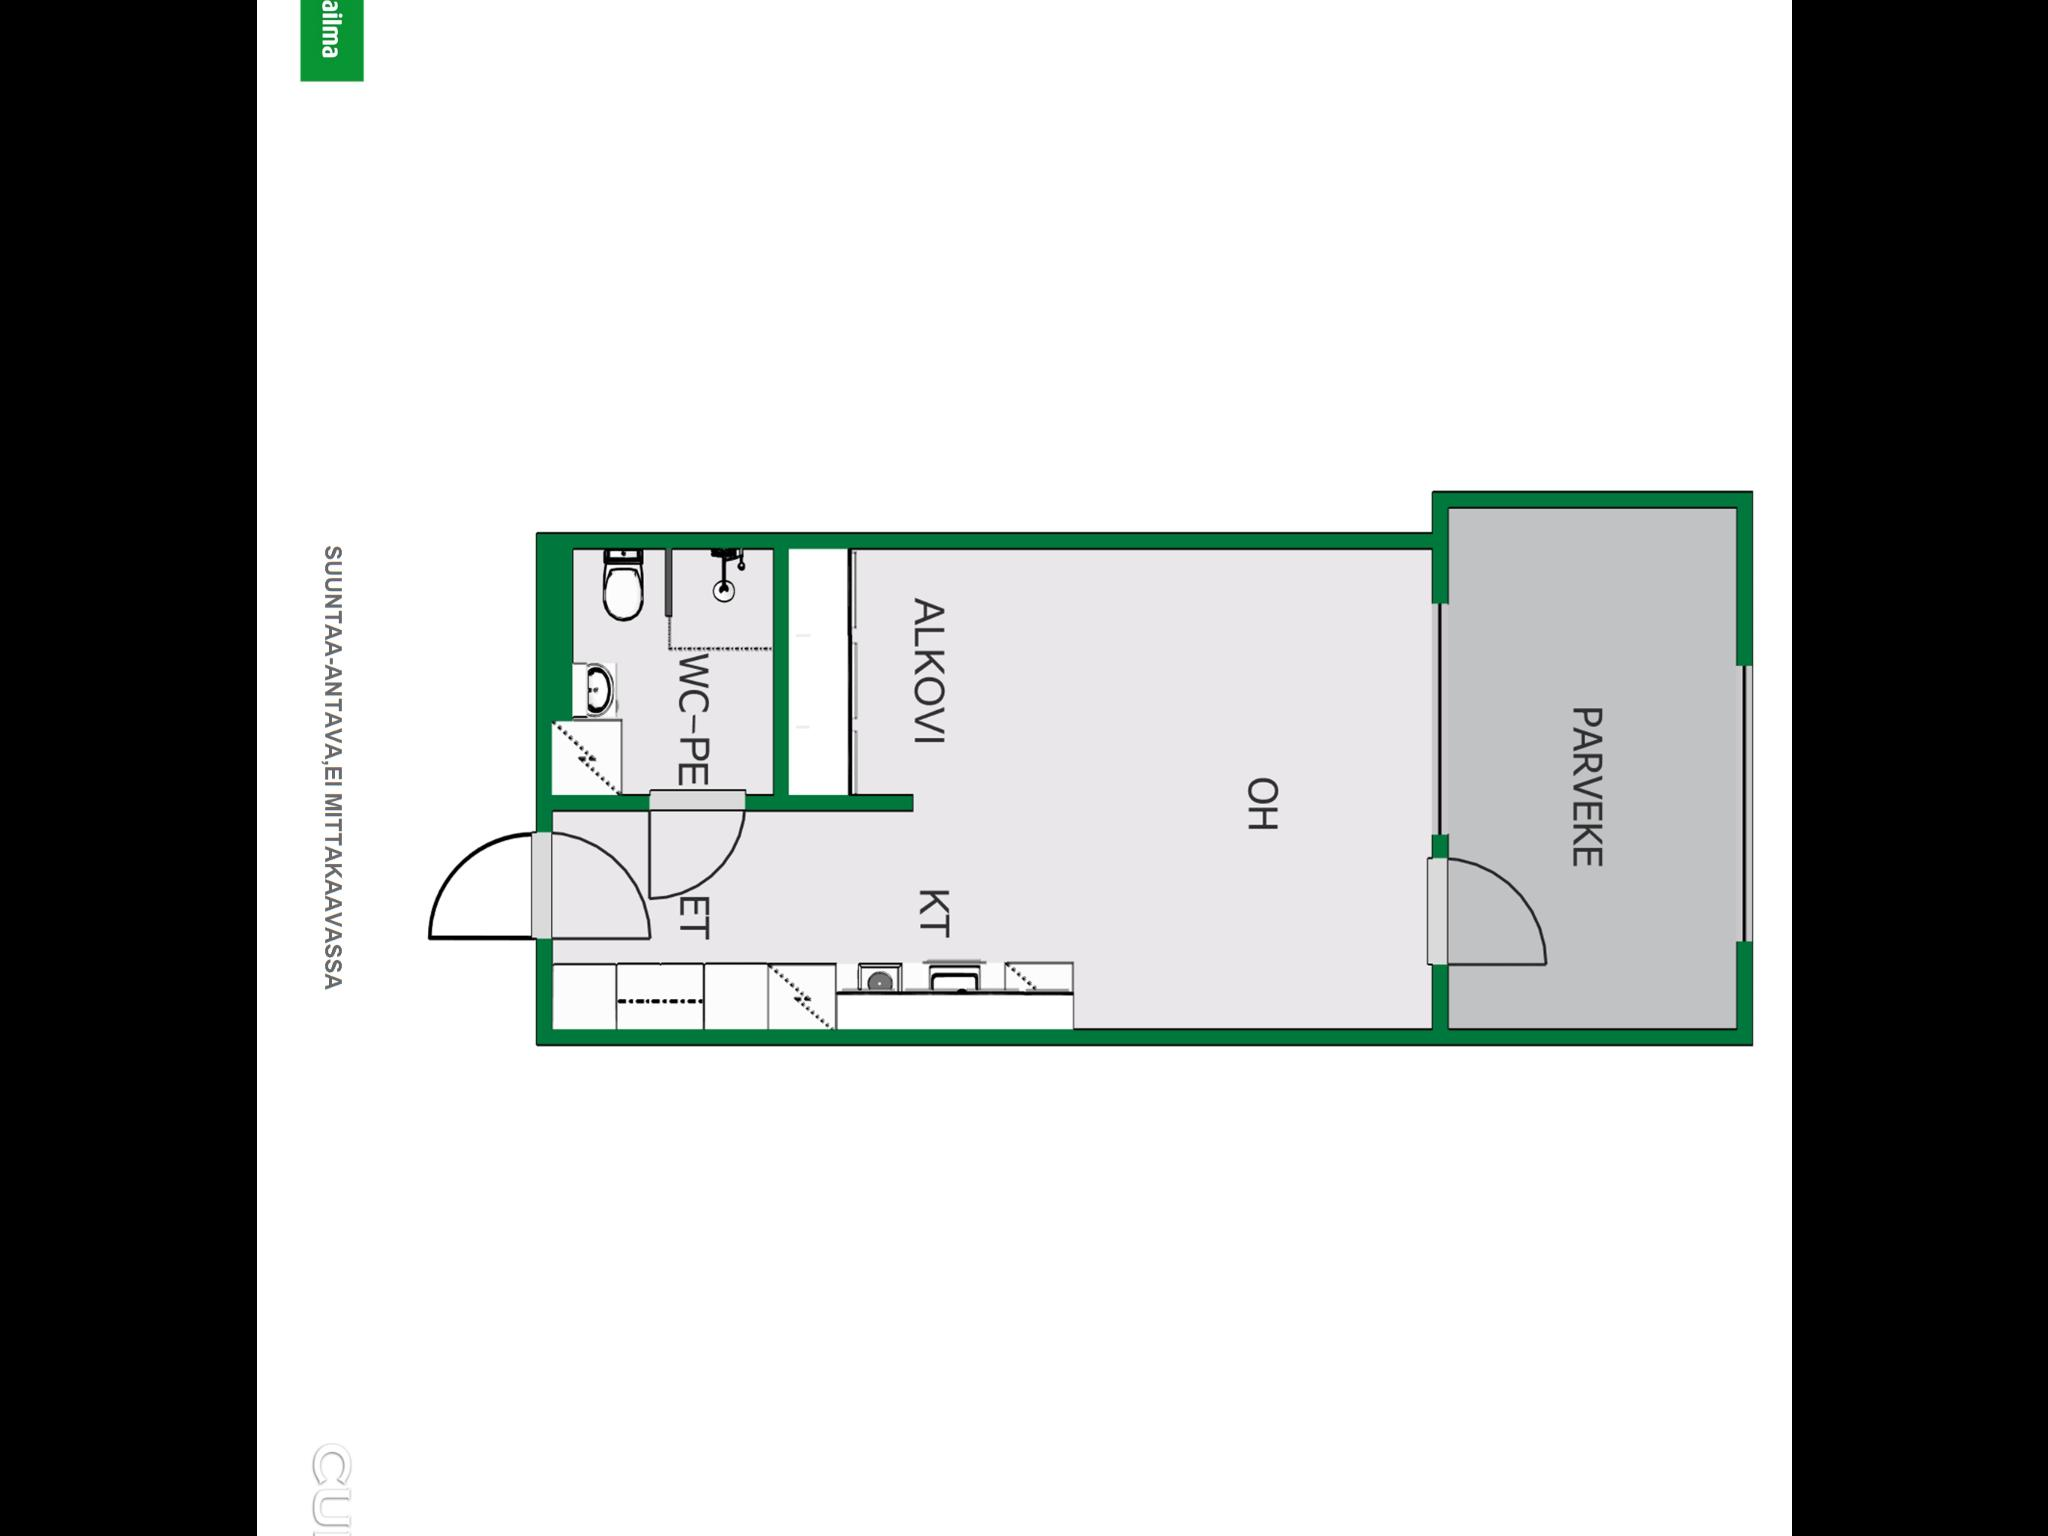bathroom: (564, 547, 779, 795)
door: (418, 826, 550, 949), (1422, 852, 1553, 971), (531, 826, 656, 945), (642, 786, 753, 902)
perimeter: (532, 489, 1753, 1047)
window: (1421, 584, 1455, 852), (1730, 647, 1758, 955)
